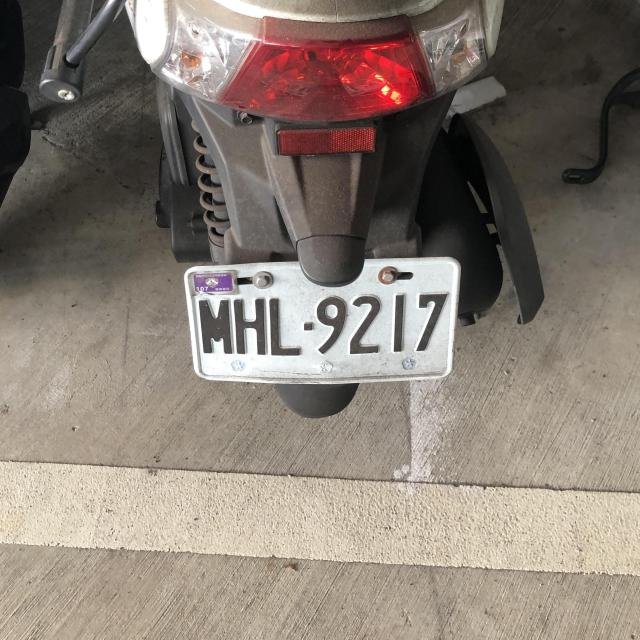W: (178, 253, 461, 389)
